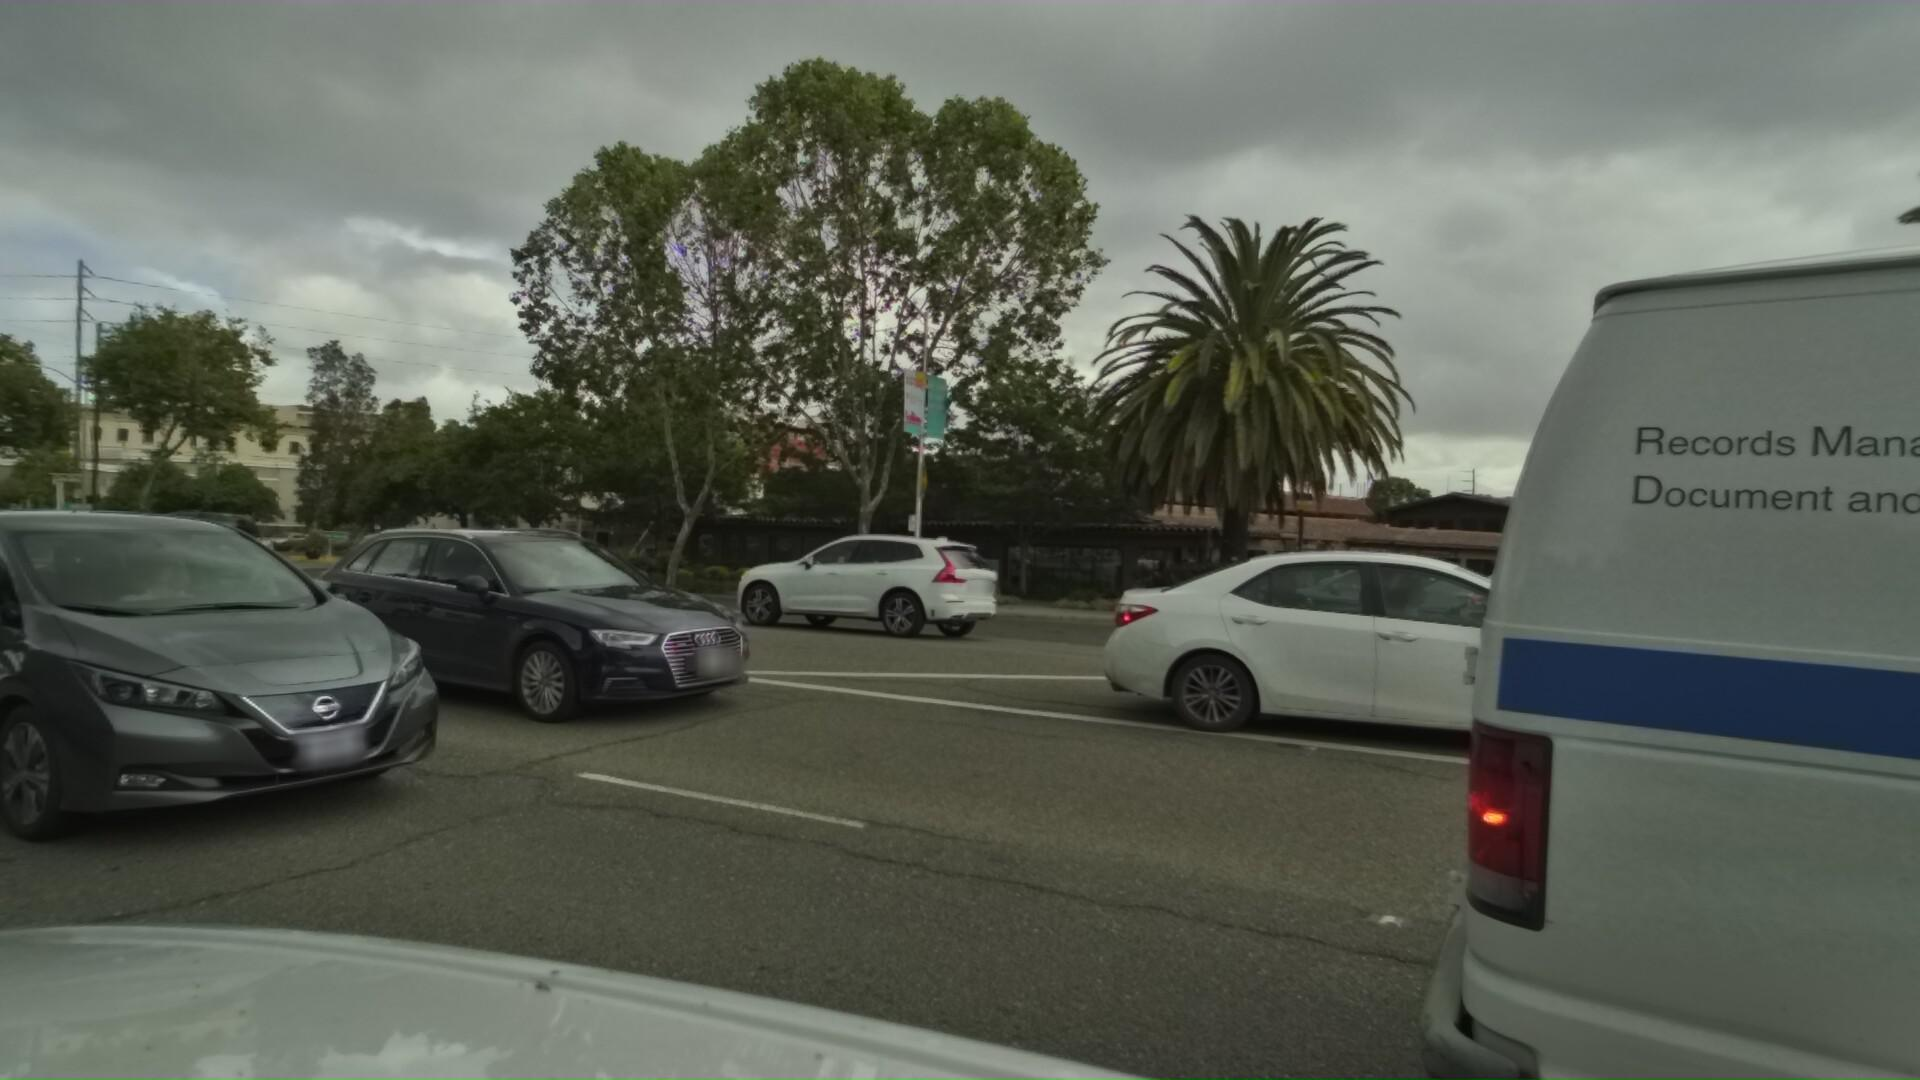car: (0, 481, 510, 895), (1089, 529, 1825, 791), (293, 517, 810, 742), (704, 522, 986, 644), (127, 502, 272, 575), (443, 527, 597, 592), (0, 481, 18, 640), (378, 529, 458, 554)
